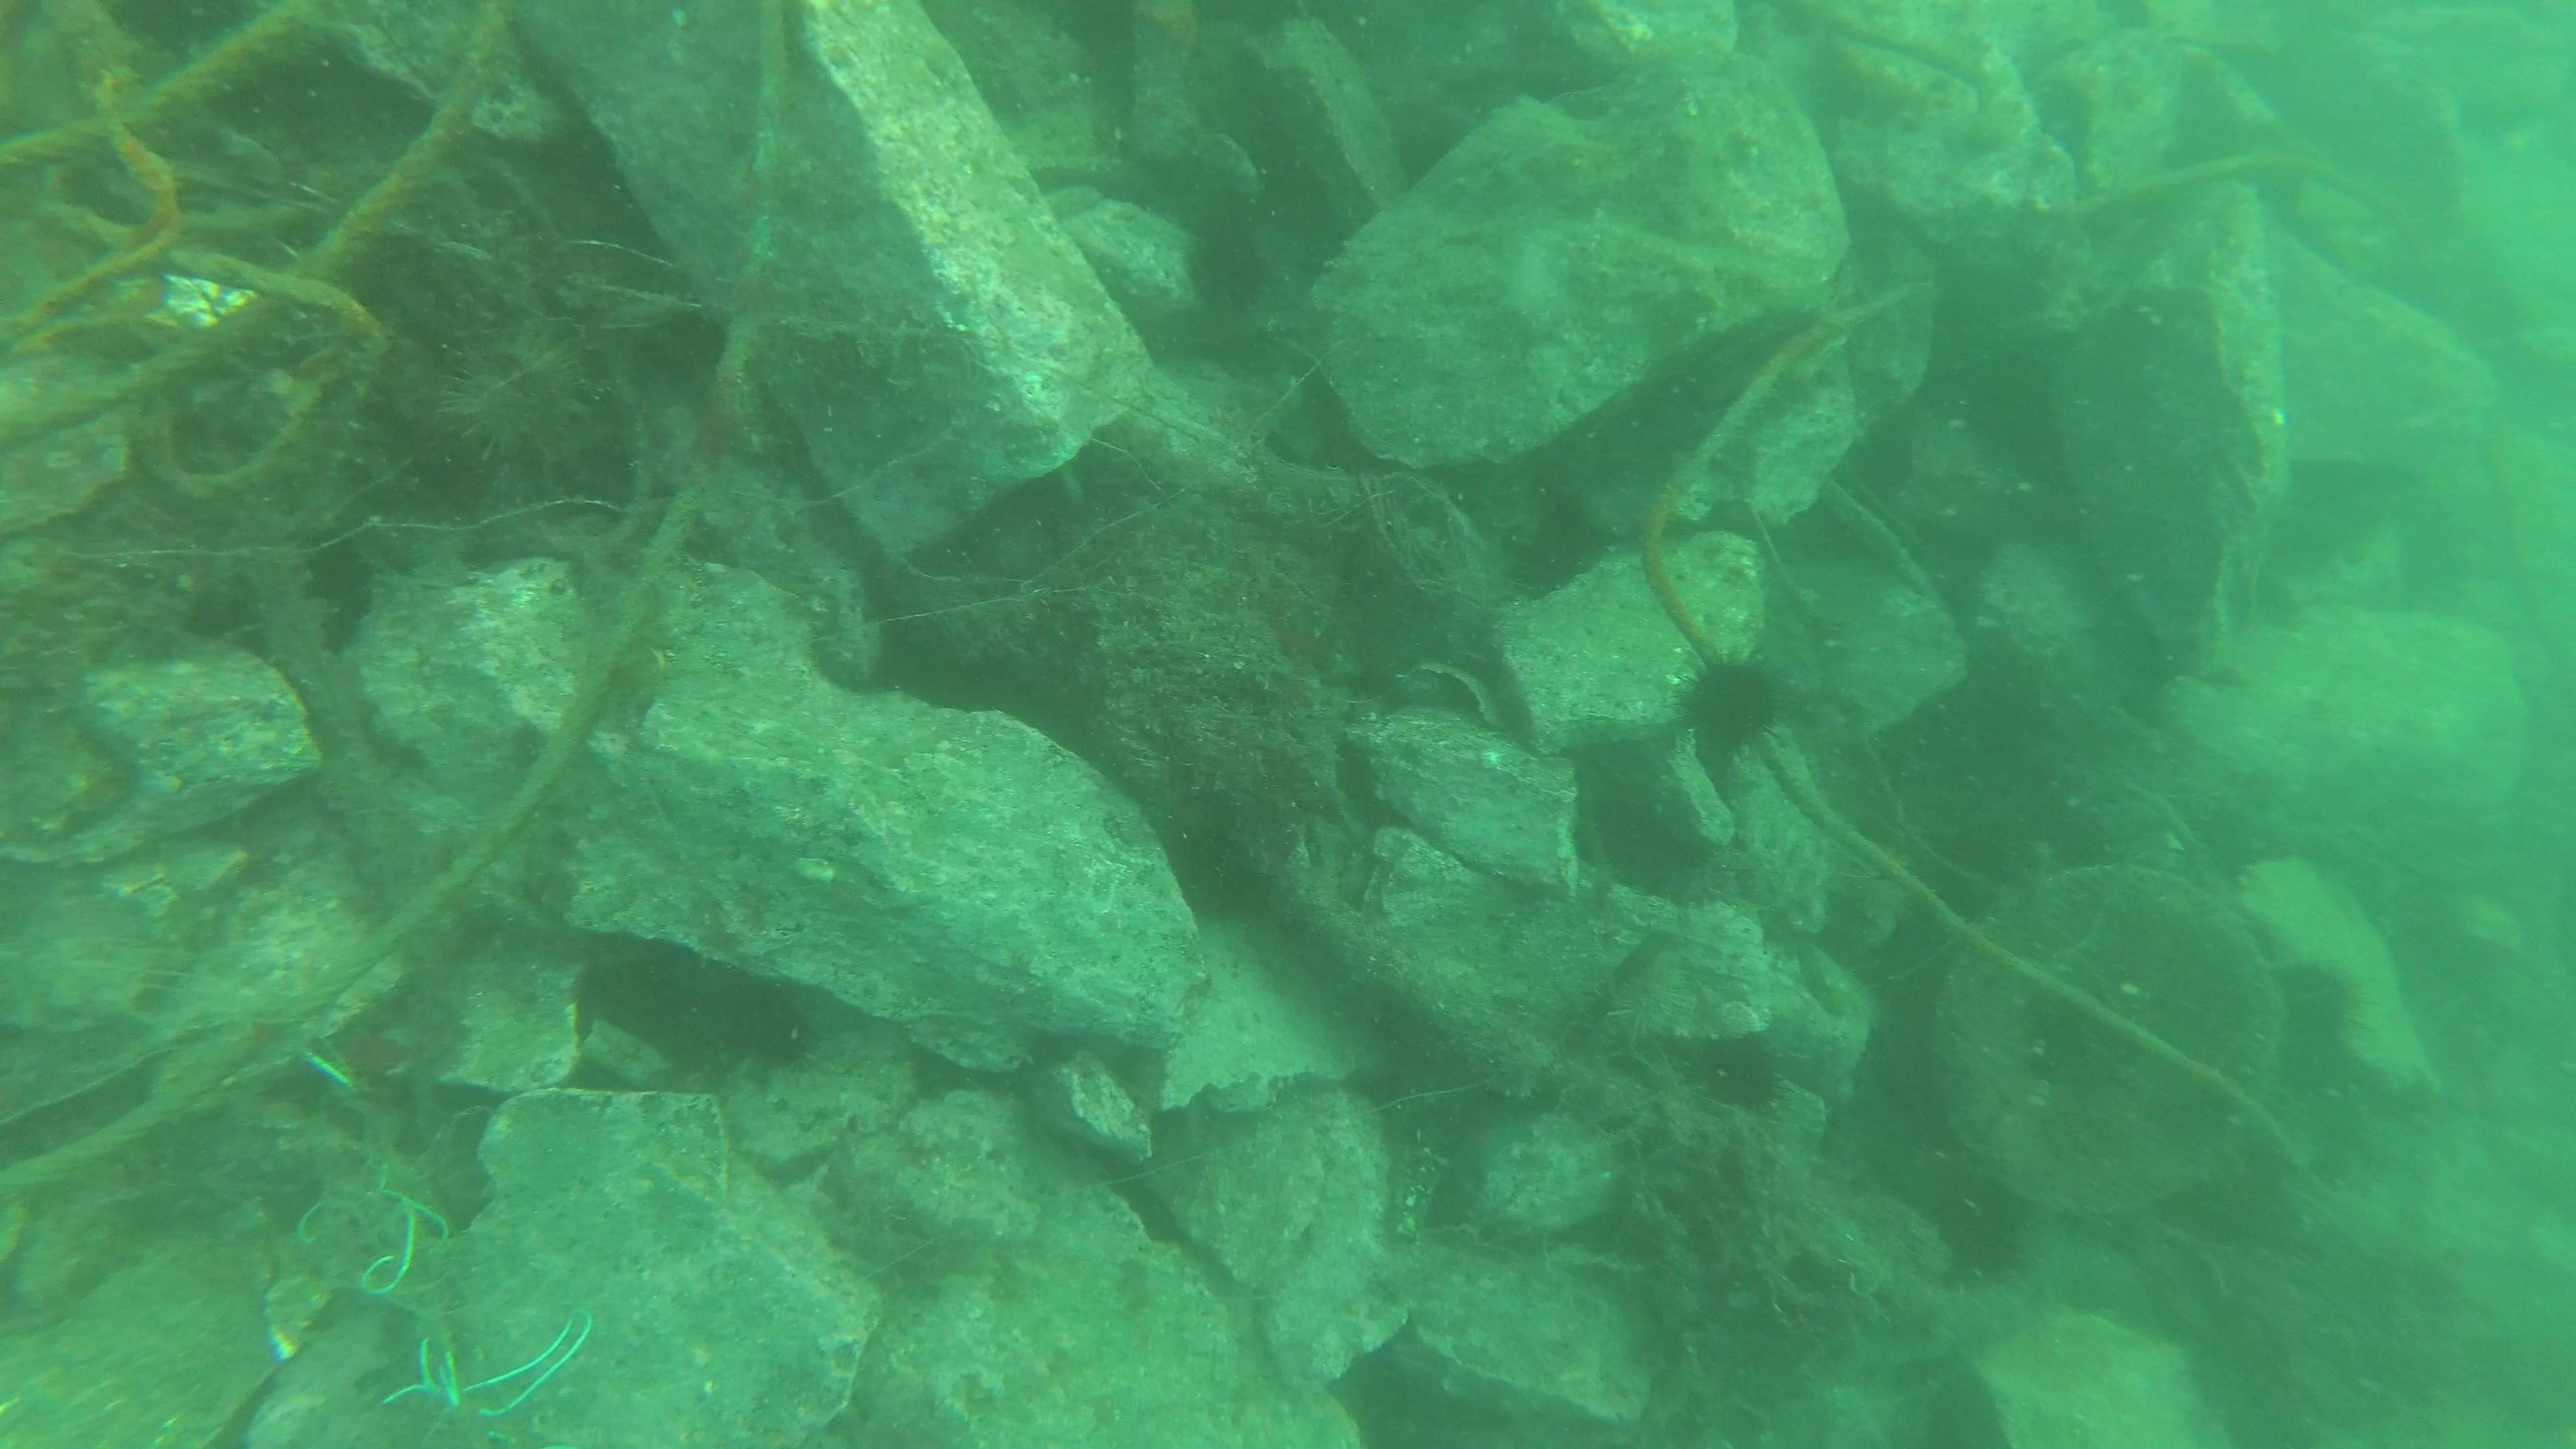echinus: (430, 318, 605, 478), (1670, 648, 1790, 766), (1921, 1164, 2036, 1286), (2266, 954, 2367, 1070), (1178, 209, 1277, 318), (1683, 1024, 1790, 1120)
